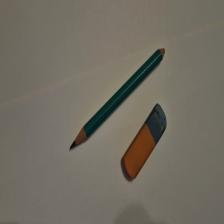eraser: (122, 104, 168, 181)
pencil: (70, 48, 166, 151)
